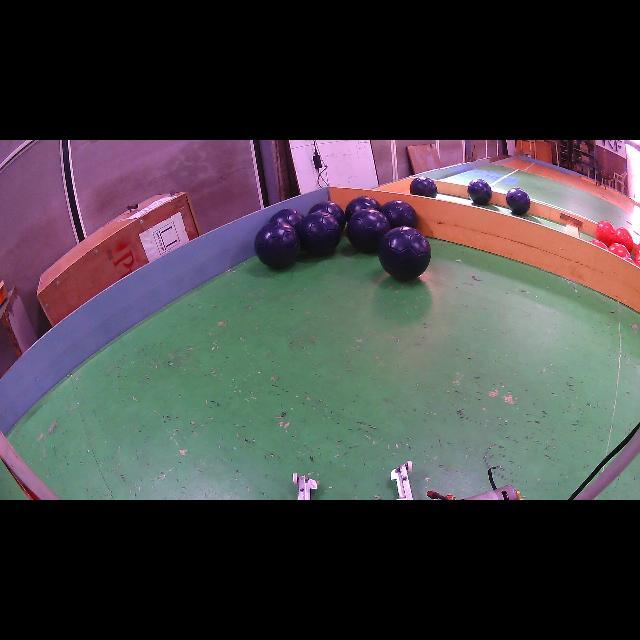B: (378, 226, 431, 280), (254, 219, 300, 269), (346, 209, 391, 252), (299, 211, 341, 255), (380, 200, 418, 229), (309, 201, 346, 229), (345, 196, 381, 221), (270, 209, 304, 230), (506, 188, 530, 215), (468, 179, 492, 205), (410, 176, 438, 198)
R: (611, 228, 634, 251), (595, 220, 615, 246), (608, 242, 631, 258), (590, 240, 608, 250), (632, 245, 640, 267)
